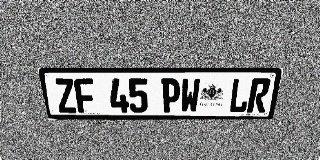4: (108, 78, 129, 113)
5: (128, 78, 148, 113)
F: (73, 78, 97, 113)
L: (228, 78, 252, 113)
P: (161, 78, 181, 113)
R: (247, 78, 271, 113)
W: (180, 78, 201, 113)
Z: (53, 78, 78, 113)
